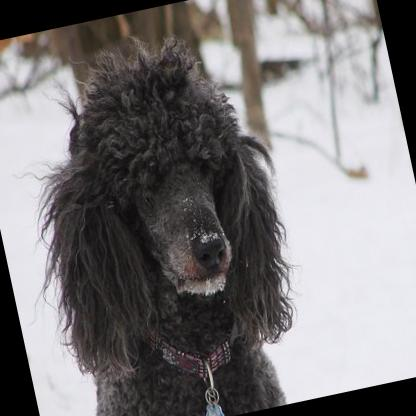standard_poodle: (0, 10, 323, 416)
